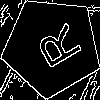R: (26, 21, 84, 76)
